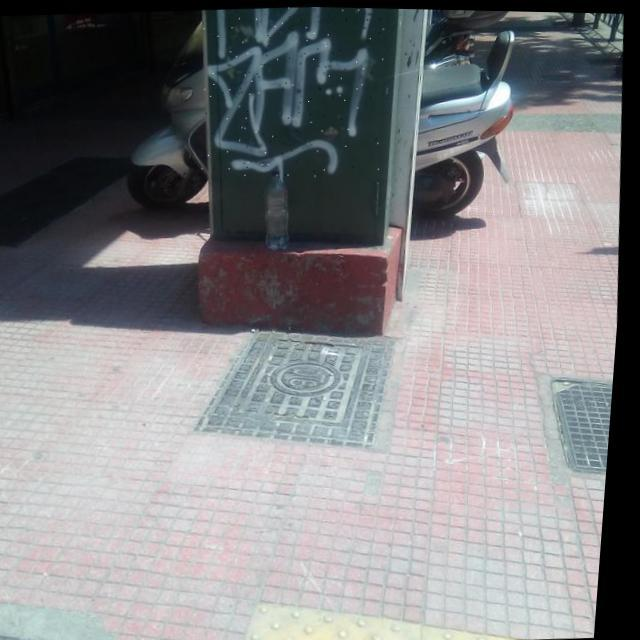-: (194, 3, 396, 182)
